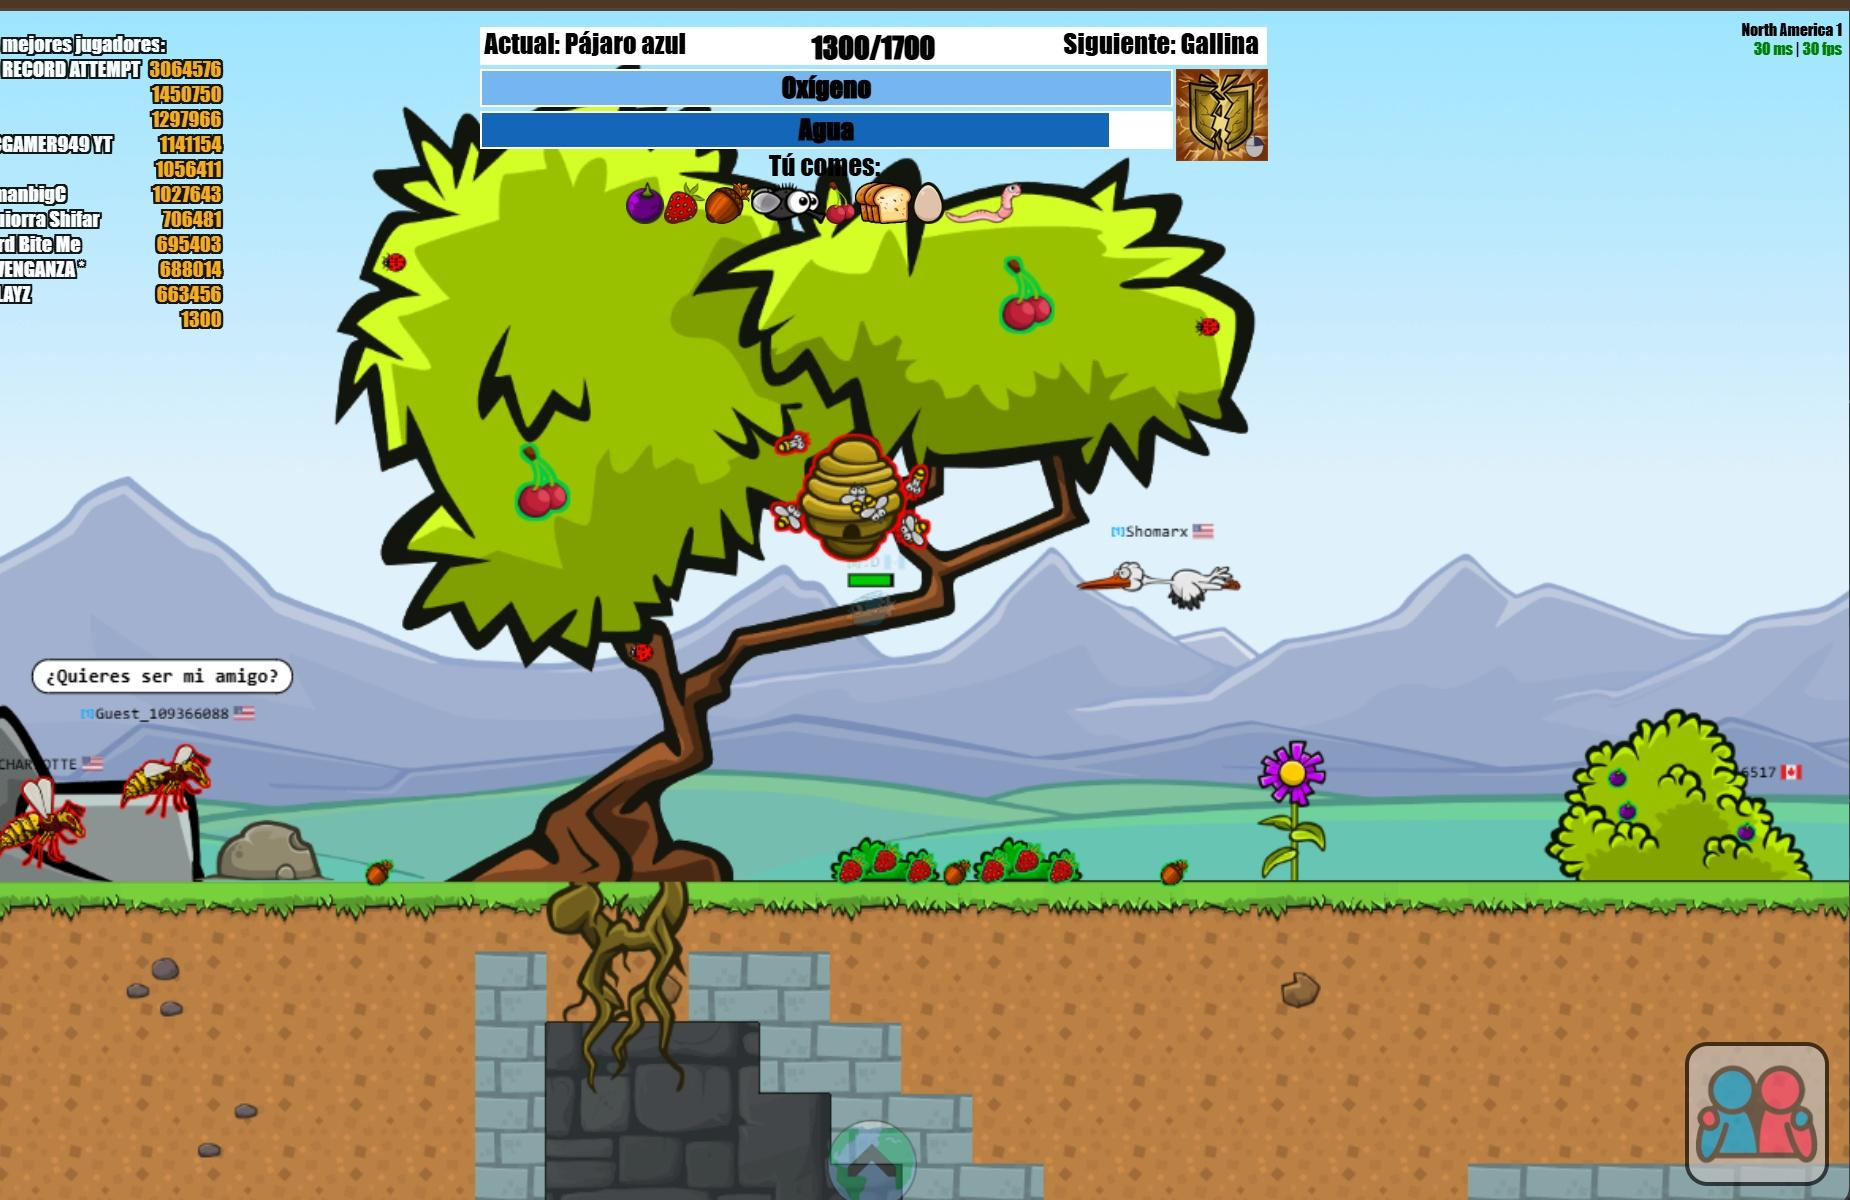arandano: (624, 183, 659, 227), (1607, 766, 1625, 789), (1734, 822, 1753, 843), (1619, 801, 1634, 820)
arbusto: (1551, 709, 1812, 890)
avellana: (701, 181, 751, 224), (1158, 856, 1187, 883), (363, 858, 394, 880), (941, 859, 968, 880)
avispon: (5, 773, 86, 867), (119, 743, 210, 816)
ciguenia: (1077, 554, 1243, 611)
enjambre: (771, 427, 928, 560)
flor: (1259, 738, 1331, 808)
fresa: (670, 182, 697, 225), (1048, 853, 1075, 880), (1014, 843, 1034, 872), (871, 845, 894, 870), (839, 858, 862, 878), (980, 855, 1001, 878), (909, 864, 930, 882)
guinda: (1002, 255, 1054, 334), (516, 445, 565, 523), (827, 178, 856, 228)
gusano: (943, 178, 1022, 222)
huevo: (916, 182, 943, 224)
mariquita: (376, 251, 406, 271)
mosca: (752, 178, 824, 232)
pan: (860, 177, 909, 227)
raiz: (545, 876, 701, 1099)
vida: (845, 569, 895, 587)
